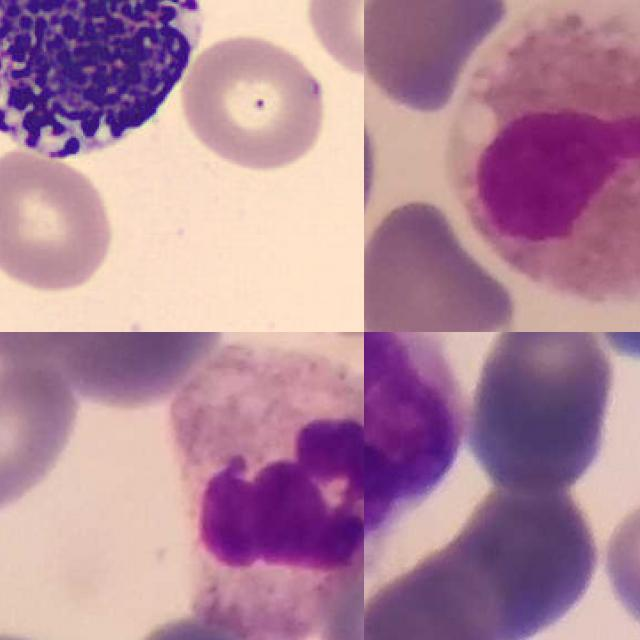Basophil: (0, 0, 218, 174)
Eosinophil: (451, 0, 640, 310)
Lymphocyte: (364, 332, 469, 552)
Neutrophil: (173, 340, 364, 640)
RBC: (176, 29, 334, 175), (0, 145, 120, 296), (298, 0, 364, 86)
